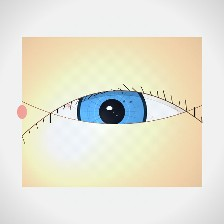pterygium_lesion: (23, 96, 64, 128)
